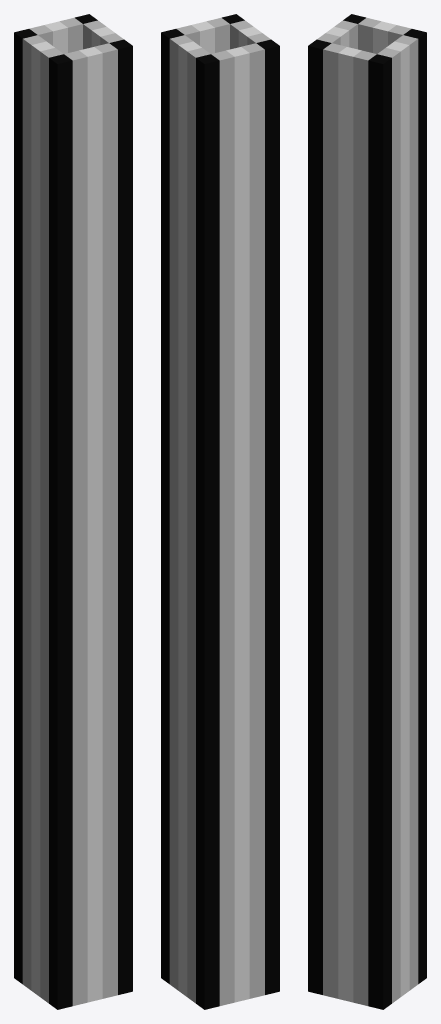
Rendered from Pillar.obj.
The picture shows the model from 3 angles, left to right: view 1: azimuth 30°, elevation 25°; view 2: azimuth 210°, elevation 25°; view 3: azimuth 330°, elevation 25°; orthographic projection.
Visible parts, largest first — view 1: Pillar; view 2: Pillar; view 3: Pillar.
Boxes of the visible parts, box(x1,y1,x2,y2) form: Pillar: box(14, 14, 132, 1009); Pillar: box(161, 14, 279, 1009); Pillar: box(308, 14, 426, 1009).
Bounding box in the file's own units: 0.5 × 6 × 0.5.
Materials: 1 (1 with a texture image).
